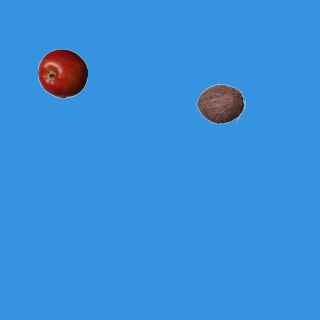Apple Braeburn: (37, 48, 87, 98)
Cocos: (195, 78, 245, 128)
